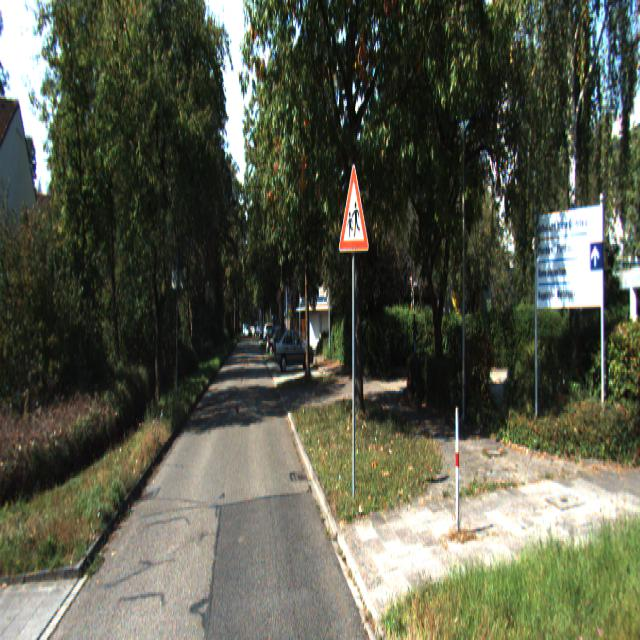Car: (272, 326, 312, 374)
